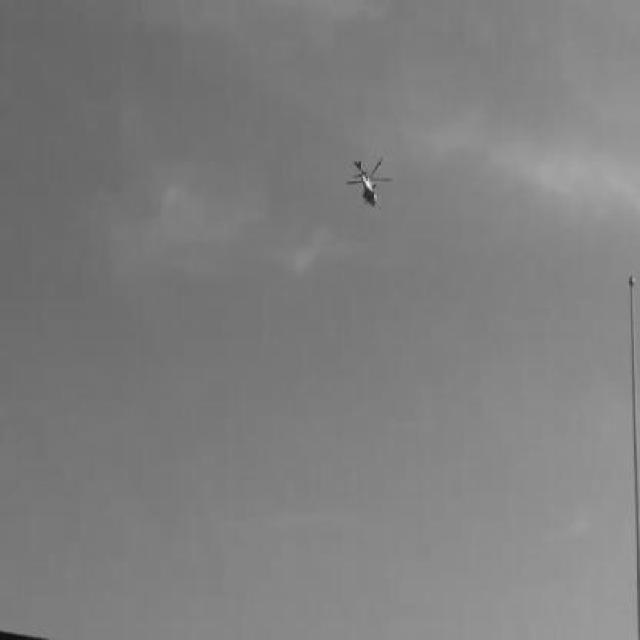helikopter: (345, 157, 387, 208)
